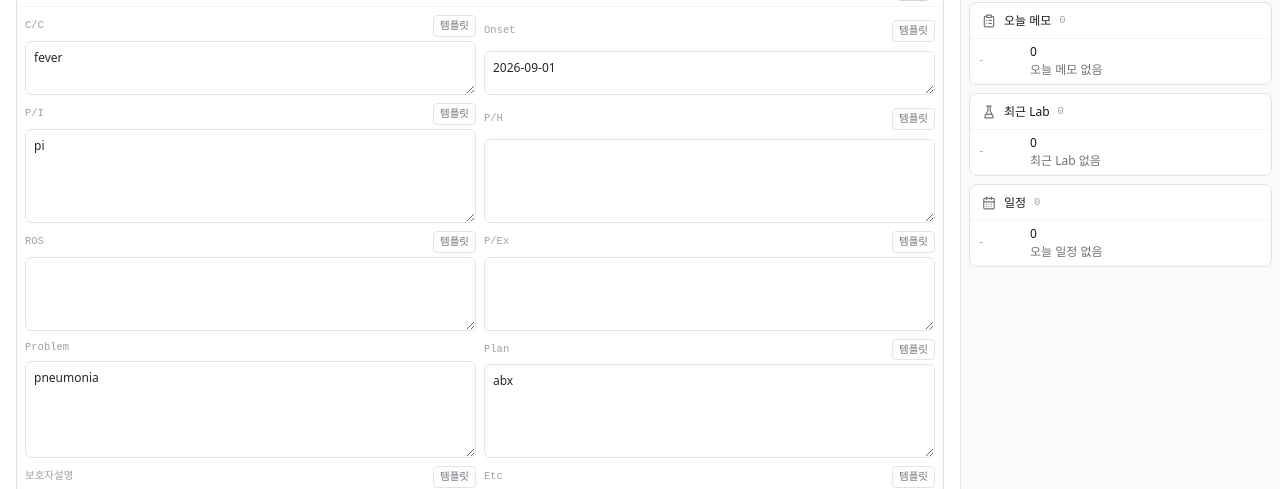
Test: workspace unsaved state › flags an actual edit in the current tab
(page scrolled)
Step 1. Type " 추가" into the text box named "Plan" → (710, 411), box [484,364,935,458]
(page scrolled)
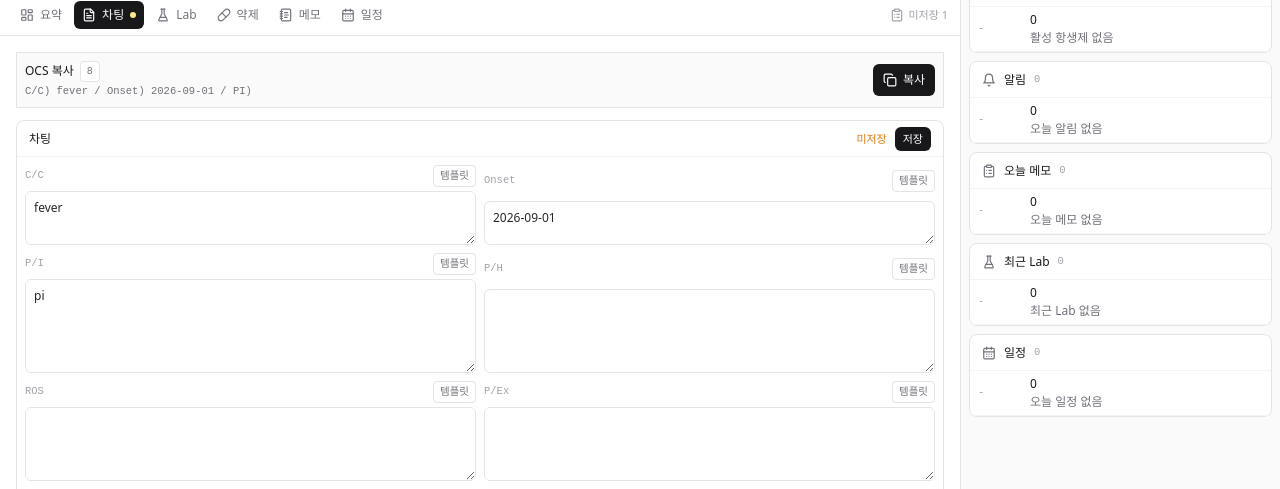
Now the element named "미저장 변경" is shown, box [130,12,136,18]
